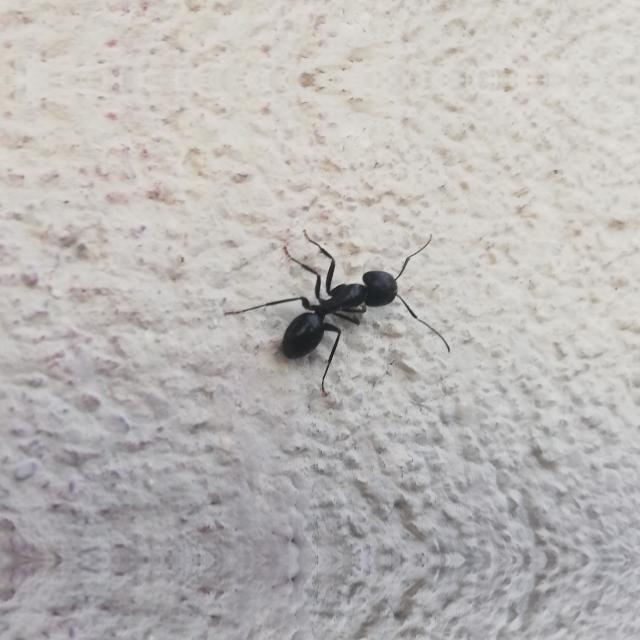Camponotus: (250, 228, 450, 374)
